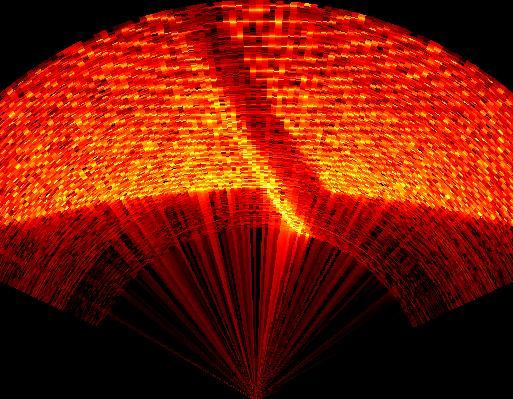pipe: (174, 5, 334, 229)
